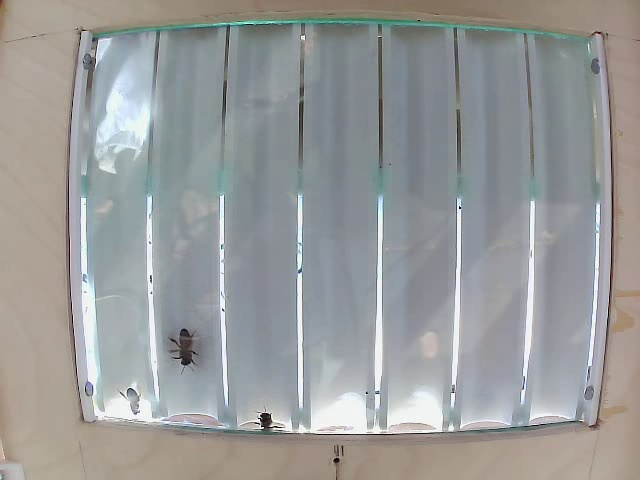bee: (167, 321, 207, 370)
